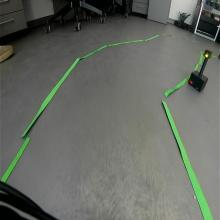green: (203, 49, 213, 59)
